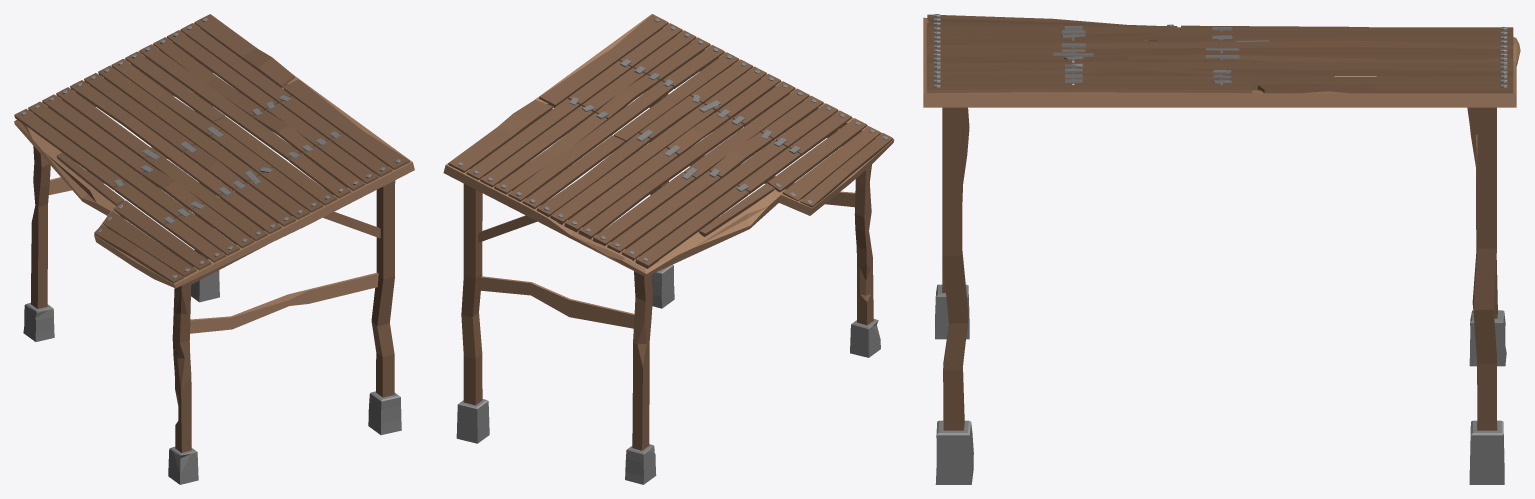
File: Shelter.fbx
3 views of the same model, side by side, from view 1: azimuth 30°, elevation 25°; view 2: azimuth 150°, elevation 25°; view 3: azimuth 270°, elevation 25° (orthographic). The views are drawn at different scales.
Parts seen in each view (by area): view 1: Shelter; view 2: Shelter; view 3: Shelter.
Part boxes in pixels (left/top/right/bottom): Shelter: left=14, top=14, right=414, bottom=484; Shelter: left=443, top=14, right=894, bottom=484; Shelter: left=923, top=14, right=1520, bottom=484.
Size of the model in its own units: 437 by 475 by 639.
